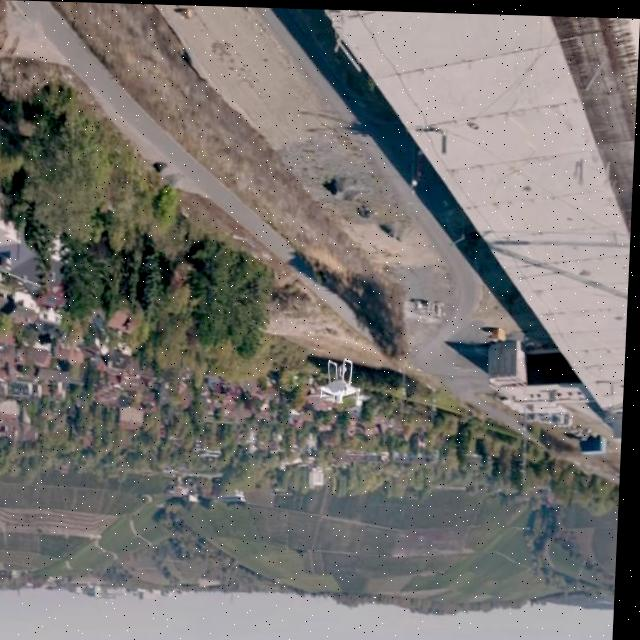drone: (313, 354, 377, 407)
